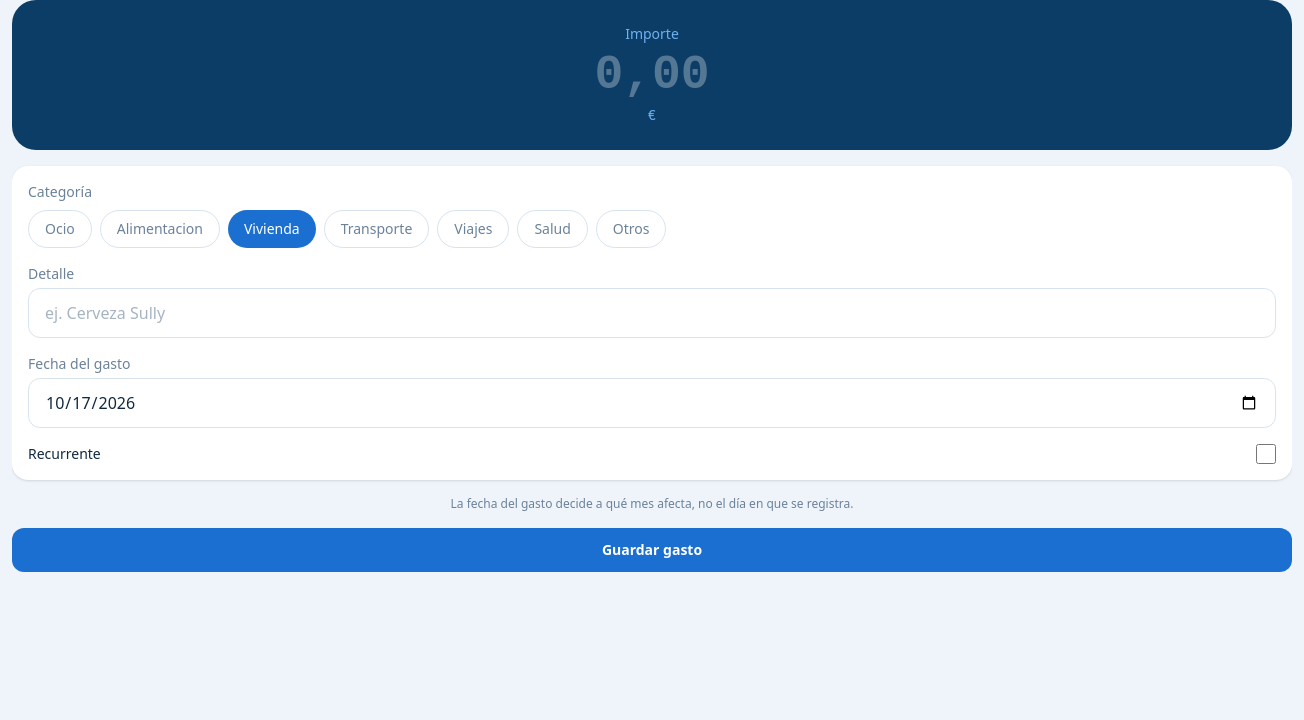
Test case: NuevoGastoForm › muestra el spinner y deshabilita el botón mientras guarda
This screenshot has width=1304, height=720.
Type "12,50" into the field with placeholder "0,00". click: [652, 75]
box: [36,48,1268,102]
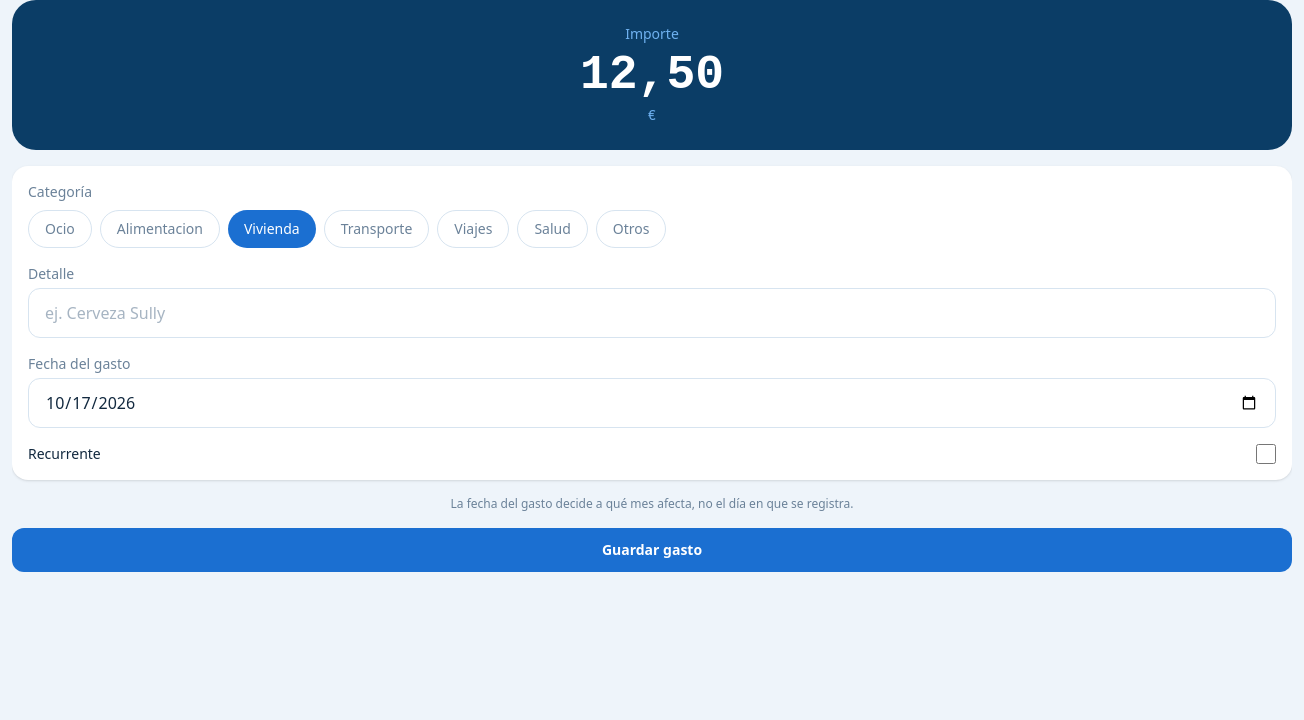
Type "Cerveza Sully" into the field labelled "Detalle". click: [652, 313]
box: [28,288,1276,338]
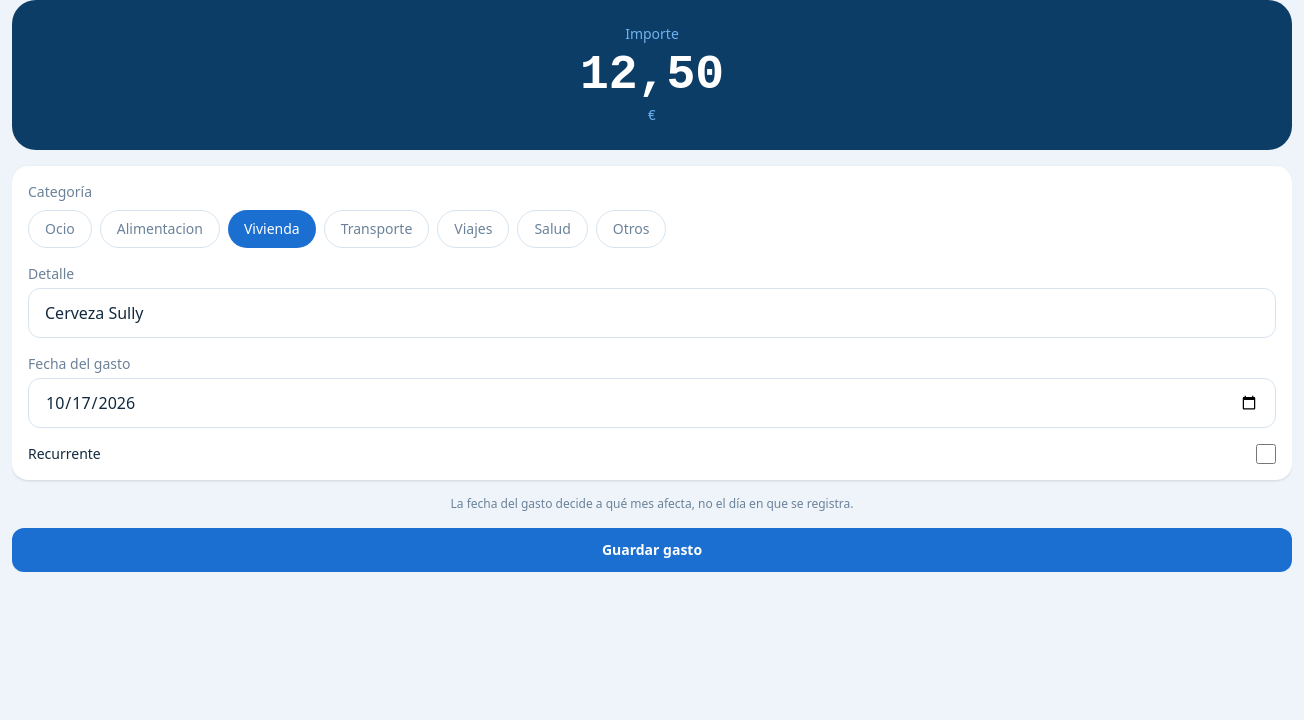
Submit the form named "Guardar gasto"
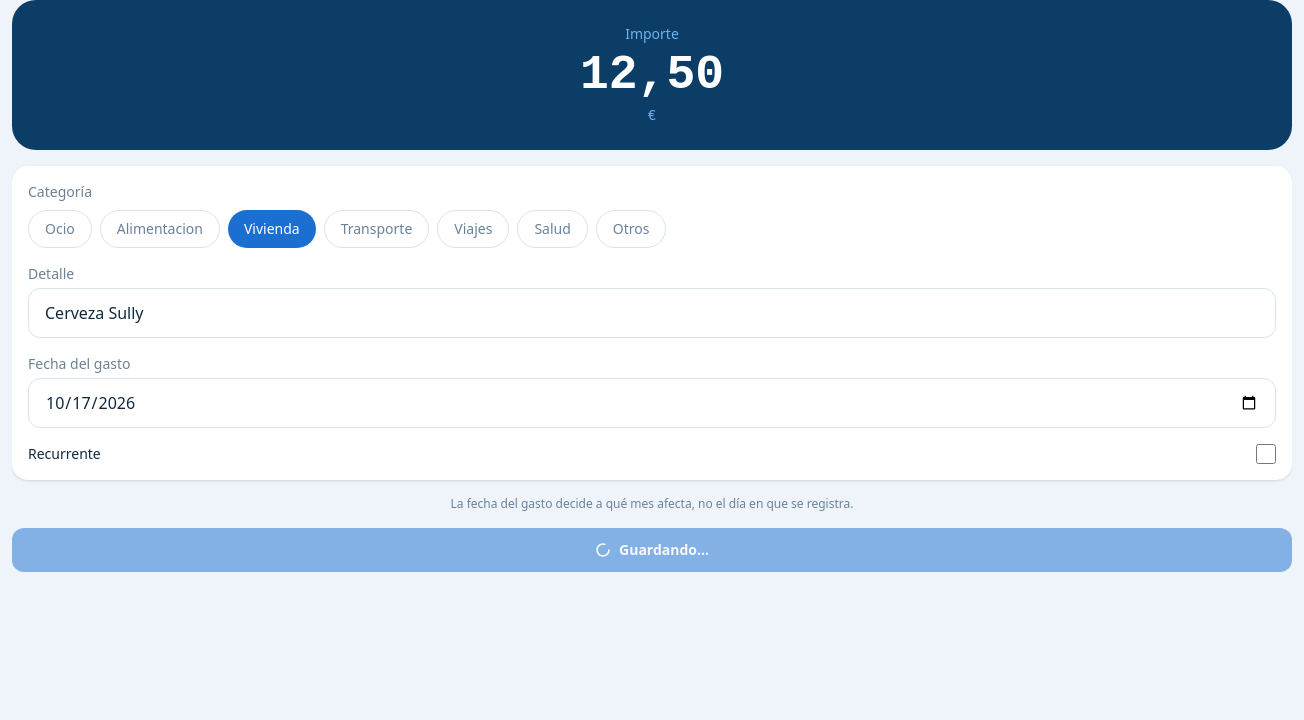
Now the button "Guardando…" is disabled, box [12,528,1292,572]
Now the message is shown, box [595,542,611,558]
